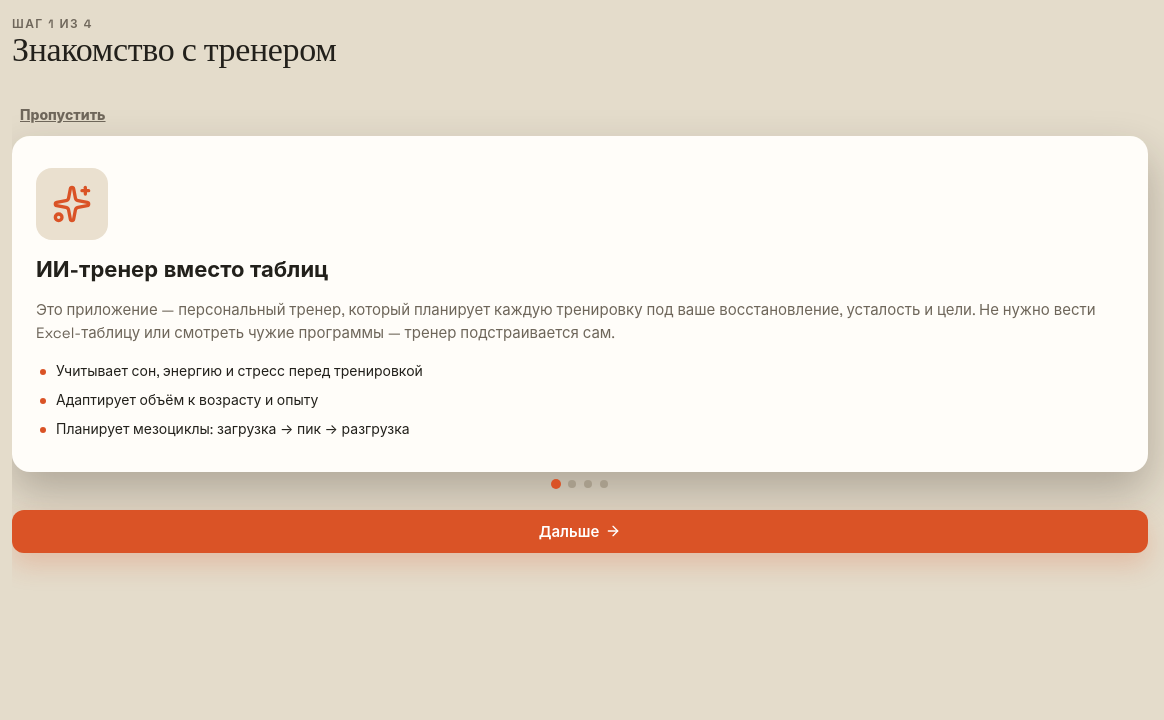
Scenario: OnboardingScreen › navigates back via the Back button
This screenshot has width=1164, height=720.
Click the button "Дальше" at (580, 531), box [12,510,1148,553]
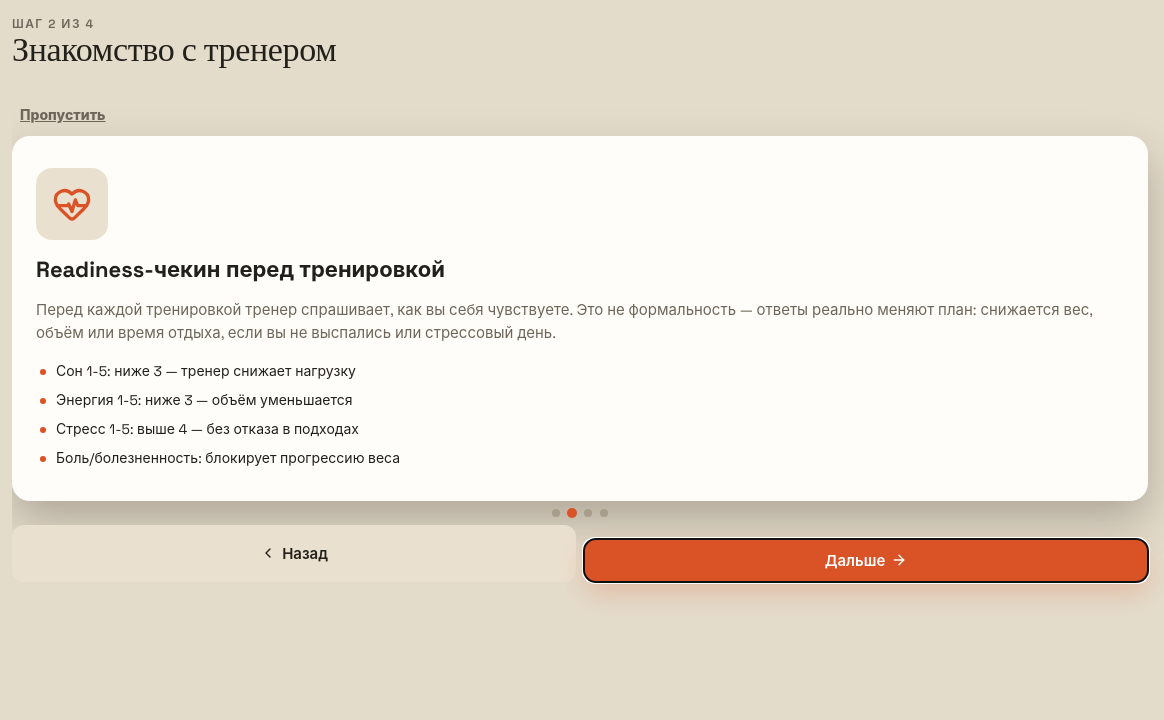
Click the button "Назад" at (294, 553), box [12,525,576,582]
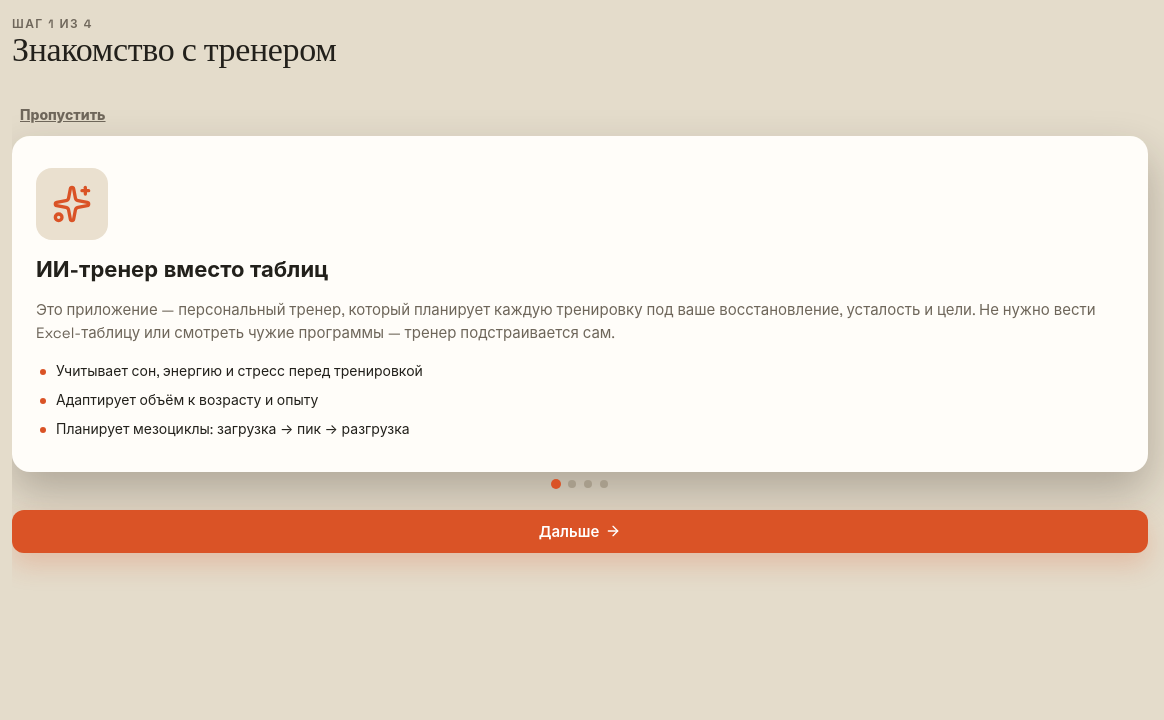
Expected: the text "Шаг 1 из 4" is shown, [12,16,93,32]
